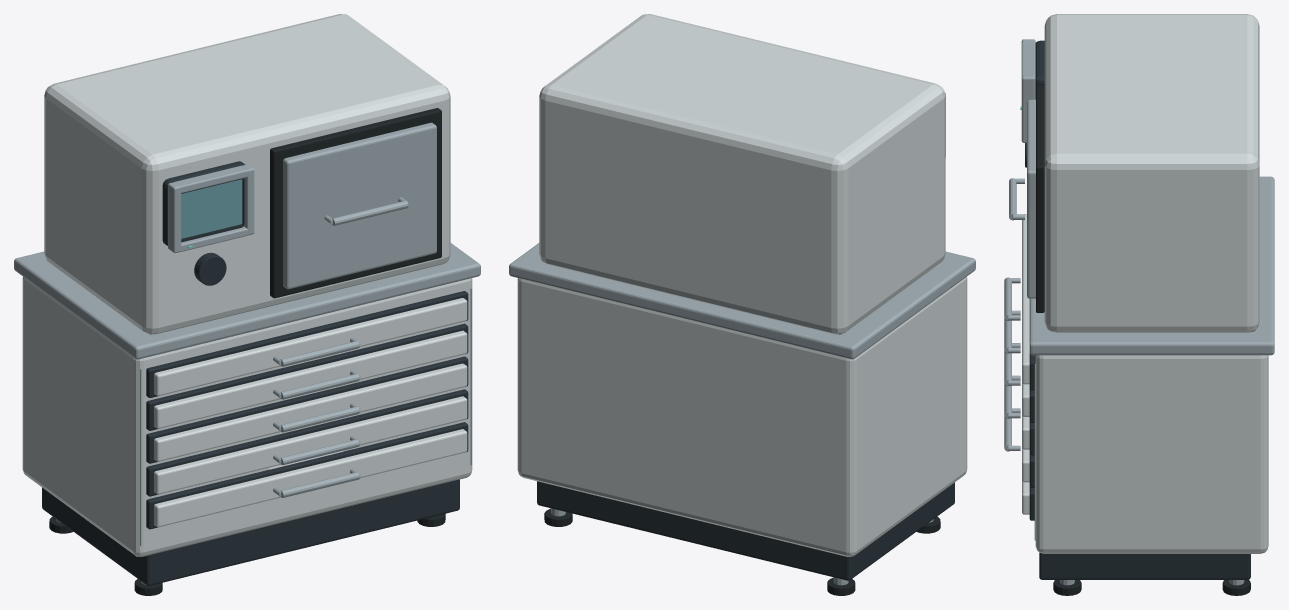
Rendered from SF_MedicalSterilizer.fbx.
The picture shows the model from 3 angles, left to right: view 1: azimuth 30°, elevation 25°; view 2: azimuth 150°, elevation 25°; view 3: azimuth 270°, elevation 25°; orthographic projection.
Visible parts, largest first — view 1: SF_MedicalSterilizer; view 2: SF_MedicalSterilizer; view 3: SF_MedicalSterilizer.
Part boxes in pixels (x1=…): SF_MedicalSterilizer: x1=14, y1=14, x2=480, y2=595; SF_MedicalSterilizer: x1=509, y1=14, x2=975, y2=595; SF_MedicalSterilizer: x1=1004, y1=14, x2=1274, y2=595.
Size of the model in its own units: 112 by 137 by 76.65.
